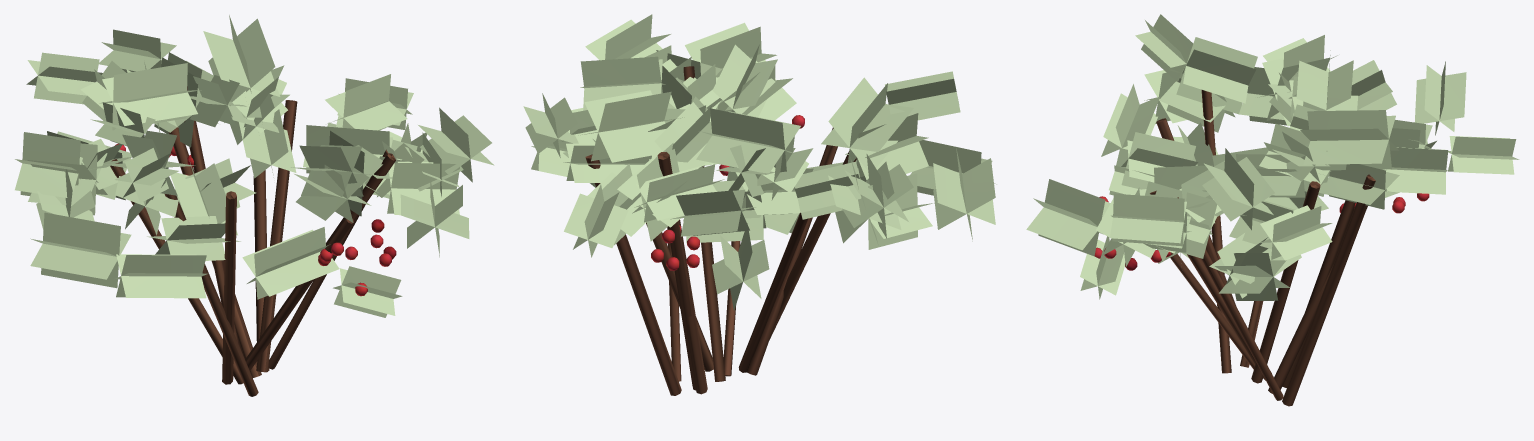
The model's file is small-lod0.glb.
3 renders of one model, left to right at view 1: azimuth 30°, elevation 25°; view 2: azimuth 150°, elevation 25°; view 3: azimuth 270°, elevation 25°, orthographic. The views are drawn at different scales.
Visible parts, largest first — view 1: redberry-leaf-sprays, redberry-buried-stems-ground-blend-and-fruit; view 2: redberry-leaf-sprays, redberry-buried-stems-ground-blend-and-fruit; view 3: redberry-leaf-sprays, redberry-buried-stems-ground-blend-and-fruit.
Part boxes in pixels (x1,y1,x2,y2): redberry-leaf-sprays: [15, 15, 494, 317]; redberry-buried-stems-ground-blend-and-fruit: [110, 86, 396, 396]; redberry-leaf-sprays: [523, 14, 996, 310]; redberry-buried-stems-ground-blend-and-fruit: [585, 66, 856, 395]; redberry-leaf-sprays: [1026, 14, 1519, 300]; redberry-buried-stems-ground-blend-and-fruit: [1094, 90, 1429, 406].
Bounding box in the file's own units: 1.52 × 1.07 × 1.59.
